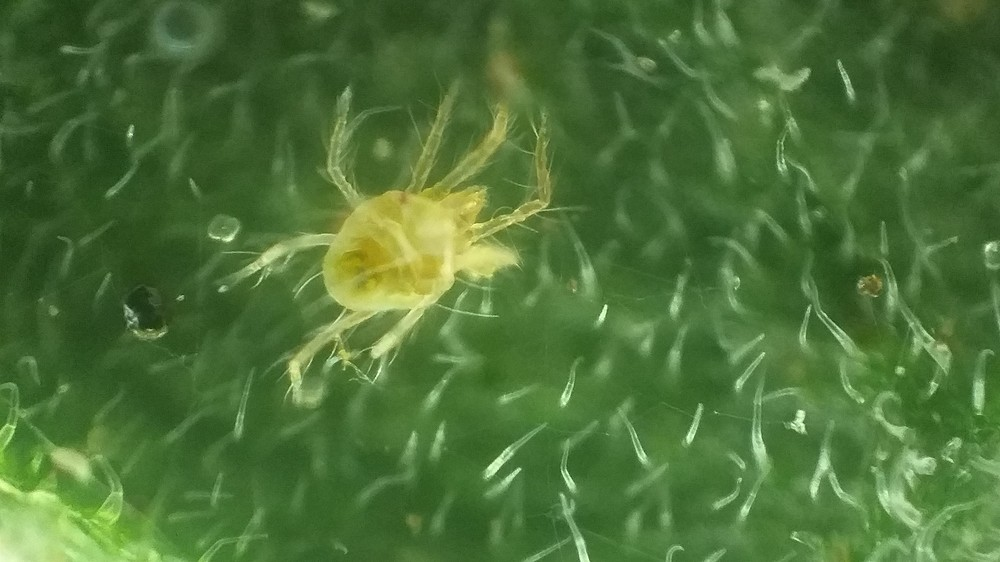Aracnido Rojo: (233, 85, 597, 389)
